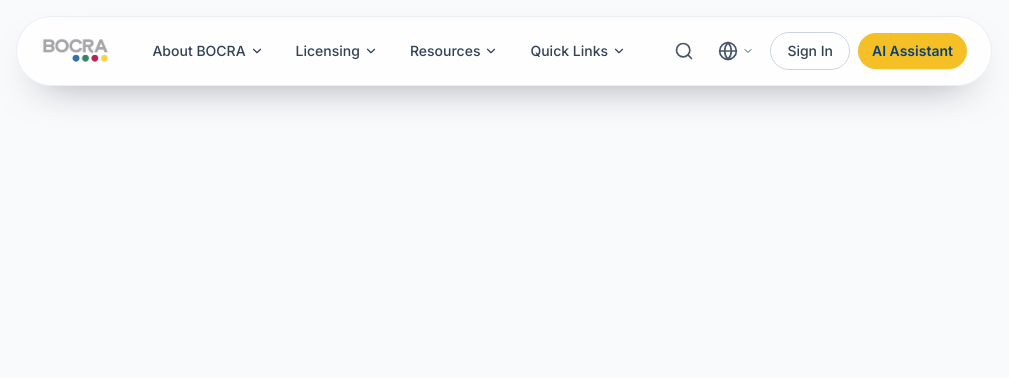
Test case: Header search › submits query to backend and renders grouped results
Click the button named "Toggle search": (684, 51) [666, 33, 702, 69]
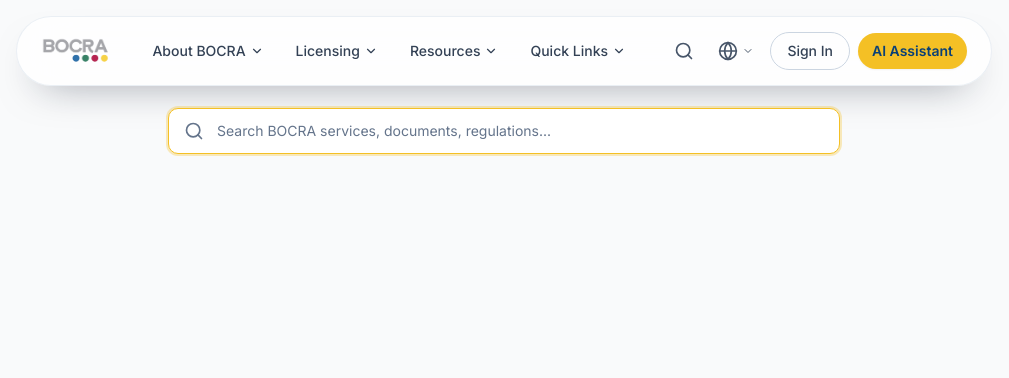
In the field with placeholder "Search BOCRA services, documents, regulations...": (504, 131) [168, 108, 840, 154], type "licence"
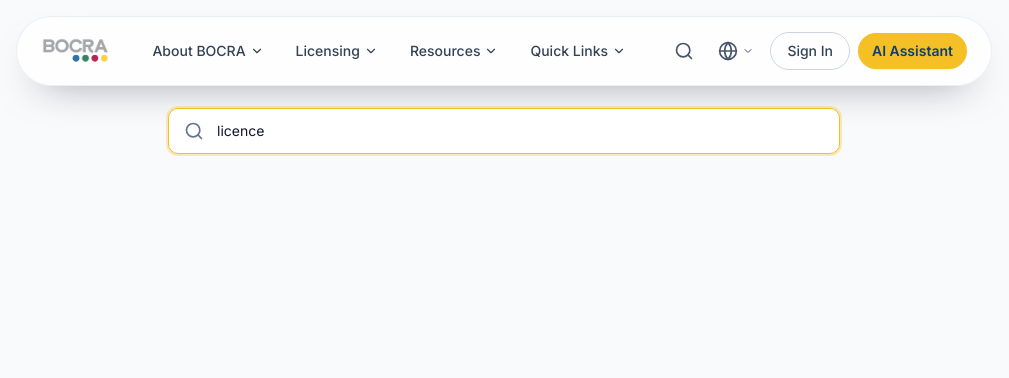
Submit the form with placeholder "Search BOCRA services, documents, regulations...", box [168, 108, 840, 154]
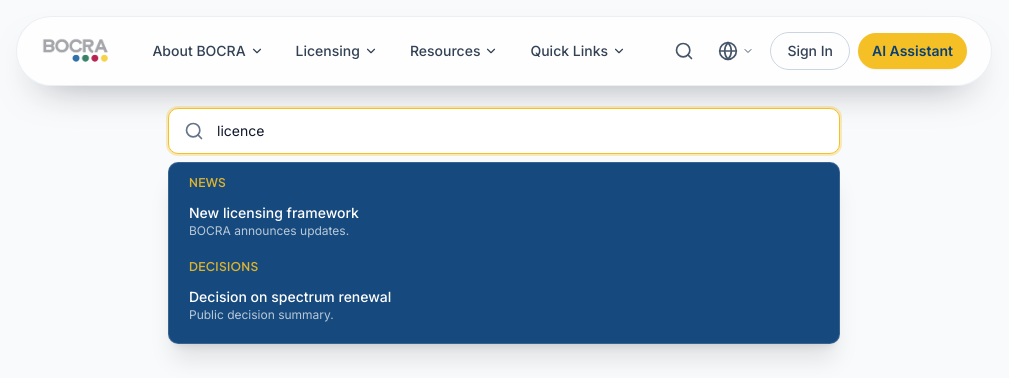
Expected: the heading "News" is shown, [189, 175, 226, 190]
Expected: the heading "Decisions" is shown, [189, 259, 259, 274]
Expected: the text "New licensing framework" is shown, [189, 204, 359, 221]
